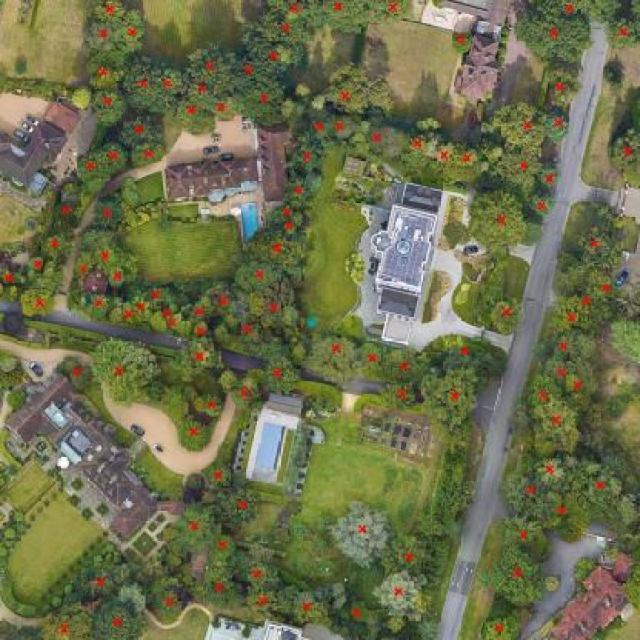tree: (88, 330, 168, 412), (323, 495, 399, 573), (412, 362, 486, 436), (473, 545, 553, 613), (513, 9, 602, 69), (463, 186, 532, 257), (535, 481, 596, 555), (235, 24, 314, 79), (526, 397, 589, 463), (376, 526, 449, 580), (437, 334, 512, 386), (369, 567, 433, 618), (165, 503, 225, 557), (236, 231, 313, 272), (184, 564, 251, 611), (489, 98, 549, 150), (490, 512, 550, 563), (81, 600, 156, 640), (255, 348, 309, 403), (229, 254, 298, 297), (524, 0, 625, 29), (324, 62, 375, 116), (213, 487, 267, 535), (491, 144, 546, 191), (34, 595, 91, 640), (582, 456, 623, 518), (147, 573, 190, 632), (313, 0, 375, 40), (86, 83, 135, 132), (256, 6, 316, 46), (310, 329, 361, 376), (563, 357, 605, 414), (169, 340, 222, 385), (215, 369, 263, 418), (198, 525, 244, 576), (123, 56, 160, 119), (603, 315, 640, 378), (505, 456, 542, 519), (544, 298, 602, 338), (542, 61, 587, 112), (523, 368, 568, 417), (183, 40, 235, 82), (279, 136, 333, 176), (487, 296, 531, 342), (469, 609, 533, 640), (251, 289, 297, 332), (374, 373, 421, 415), (603, 122, 640, 175), (264, 0, 327, 31), (288, 585, 331, 630), (360, 122, 406, 164), (382, 346, 439, 379), (575, 225, 617, 268), (531, 452, 577, 491), (82, 235, 133, 270), (259, 199, 316, 230), (368, 75, 403, 124), (77, 564, 123, 601), (542, 325, 585, 364), (169, 419, 214, 456), (55, 353, 92, 398), (153, 57, 187, 105), (115, 11, 152, 55), (351, 336, 387, 381), (86, 196, 129, 233), (230, 53, 268, 93), (581, 268, 622, 305), (335, 592, 376, 629), (207, 283, 242, 326), (35, 230, 79, 264), (114, 578, 151, 618), (113, 176, 150, 216), (244, 588, 284, 624), (236, 557, 278, 591), (276, 172, 322, 203), (83, 17, 120, 55), (322, 108, 360, 145), (158, 382, 195, 420), (572, 289, 608, 328), (615, 562, 640, 616), (197, 458, 234, 494), (173, 96, 212, 130), (48, 192, 87, 226), (612, 488, 640, 534), (83, 58, 122, 91), (542, 108, 575, 147), (542, 351, 573, 392), (596, 63, 630, 100), (21, 289, 59, 320), (305, 392, 346, 420), (603, 20, 640, 51), (473, 135, 507, 168), (102, 262, 133, 298), (190, 390, 228, 419), (73, 149, 105, 183), (368, 0, 415, 23), (100, 142, 131, 176), (526, 192, 559, 223), (534, 159, 561, 196), (446, 28, 477, 60), (85, 0, 126, 23), (143, 280, 175, 309), (409, 113, 449, 136), (184, 77, 221, 101), (428, 139, 454, 173), (66, 83, 94, 114), (137, 311, 169, 338), (86, 290, 109, 325), (187, 323, 219, 348), (304, 110, 327, 144), (446, 145, 480, 168), (118, 297, 139, 334), (276, 497, 309, 520), (381, 612, 412, 636), (192, 294, 213, 329), (4, 392, 33, 416), (268, 525, 297, 549), (401, 133, 428, 158), (626, 89, 640, 135), (0, 353, 25, 378), (0, 615, 25, 640), (0, 265, 22, 293), (70, 257, 93, 283), (82, 175, 107, 197), (173, 318, 195, 342), (134, 288, 148, 325), (274, 220, 301, 238), (351, 115, 372, 136), (9, 61, 31, 81), (8, 506, 30, 526)
